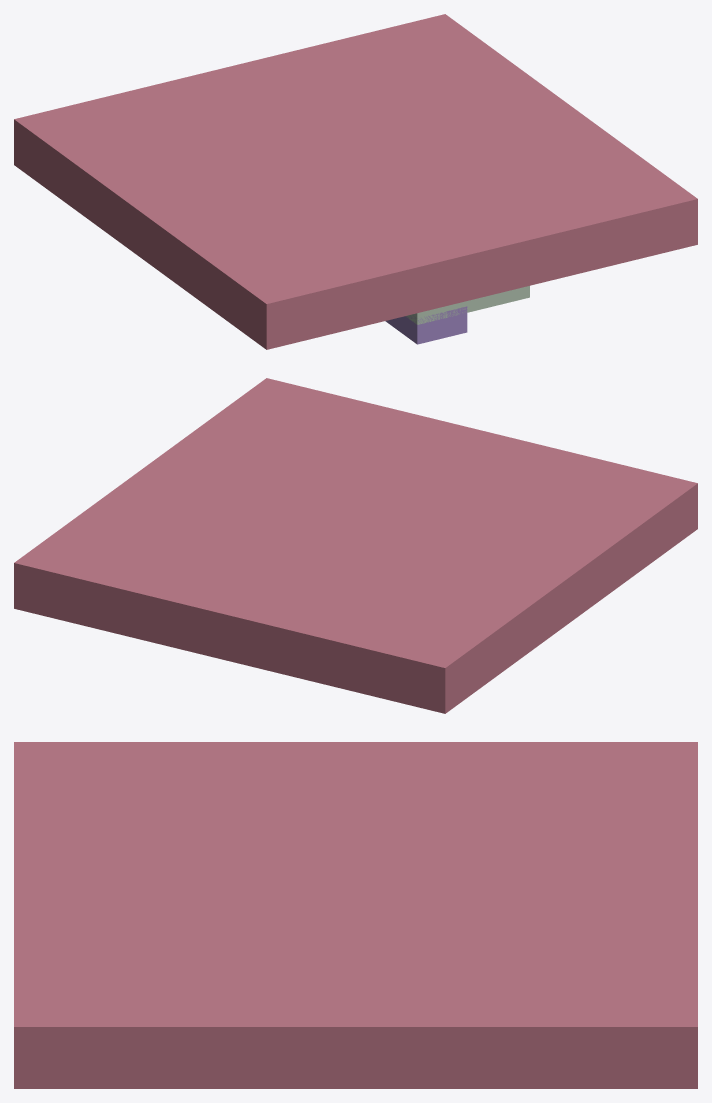
The model's file is 199511_pred.glb.
The picture shows the model from 3 angles, top to bottom: view 1: azimuth 30°, elevation 25°; view 2: azimuth 150°, elevation 25°; view 3: azimuth 270°, elevation 25°; orthographic projection. The views are drawn at different scales.
Parts seen in each view (by area): view 1: world; view 2: world; view 3: world.
Part boxes in pixels (bbox=[...]): world: bbox=[14, 14, 697, 349]; world: bbox=[14, 378, 697, 713]; world: bbox=[14, 742, 697, 1088].
Size of the model in its own units: 6.9 by 1.45 by 7.
